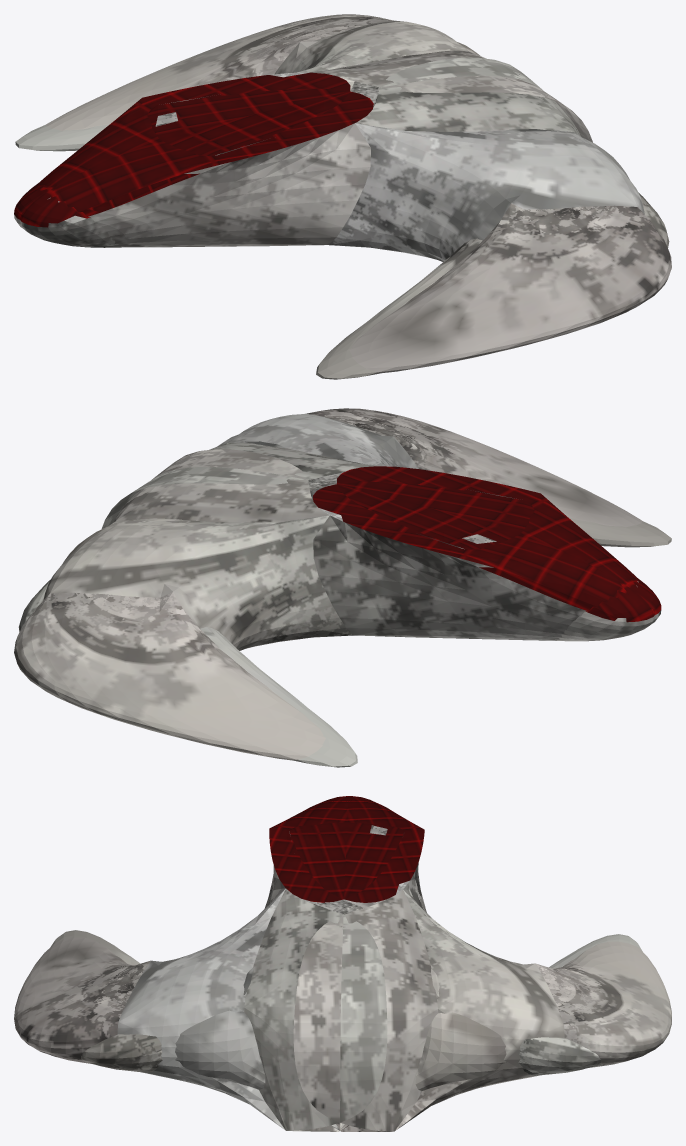
File: inceptor.obj
3 renders of one model, top to bottom at view 1: azimuth 30°, elevation 25°; view 2: azimuth 150°, elevation 25°; view 3: azimuth 270°, elevation 25°, orthographic. The views are drawn at different scales.
Parts seen in each view (by area): view 1: Cube.004; view 2: Cube.004; view 3: Cube.004.
Boxes of the visible parts, x1,y1,x2,y2 form: Cube.004: (14,14,671,379); Cube.004: (14,408,671,767); Cube.004: (14,796,671,1131).
Bounding box in the file's own units: 47.83 × 12.67 × 55.8.
1 material, 1 textured.
